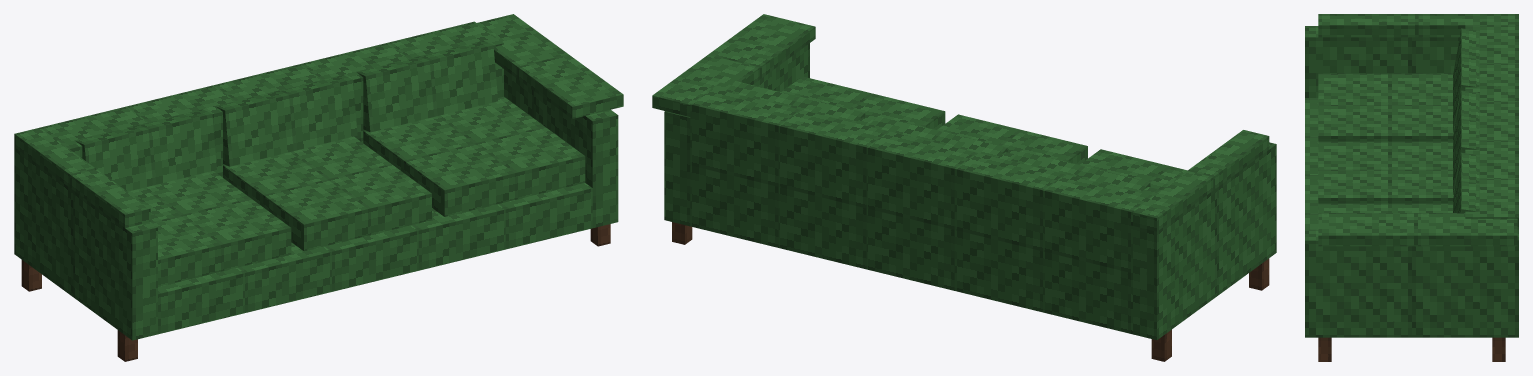
File: loungeCouchWide_10.glb
3 renders of one model, left to right at view 1: azimuth 30°, elevation 25°; view 2: azimuth 150°, elevation 25°; view 3: azimuth 270°, elevation 25°, orthographic. The views are drawn at different scales.
Parts seen in each view (by area): view 1: loungeCouchWide_10; view 2: loungeCouchWide_10; view 3: loungeCouchWide_10.
Part boxes in pixels (x1,y1,x2,y2): loungeCouchWide_10: (14, 14, 623, 361); loungeCouchWide_10: (652, 14, 1276, 361); loungeCouchWide_10: (1305, 14, 1518, 361).
Size of the model in its own units: 2.44 by 0.7008 by 1.
Materials: 1 (1 with a texture image).
